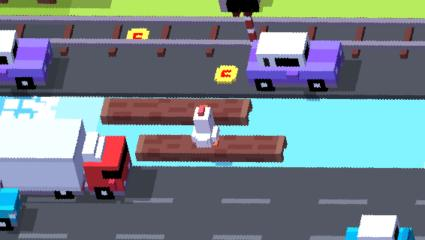hen: (191, 105, 219, 148)
obstacle: (0, 118, 82, 198), (249, 32, 343, 90), (84, 132, 132, 200), (0, 29, 52, 88), (344, 215, 415, 240), (0, 187, 20, 231), (355, 27, 365, 41), (403, 28, 413, 41)
timber: (136, 134, 287, 162), (100, 98, 251, 124)
